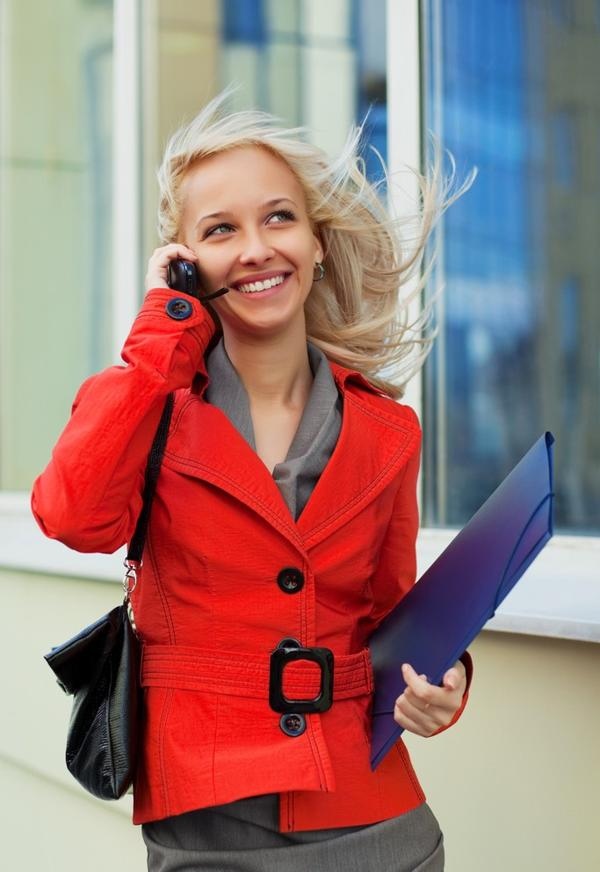person: (30, 112, 475, 872)
